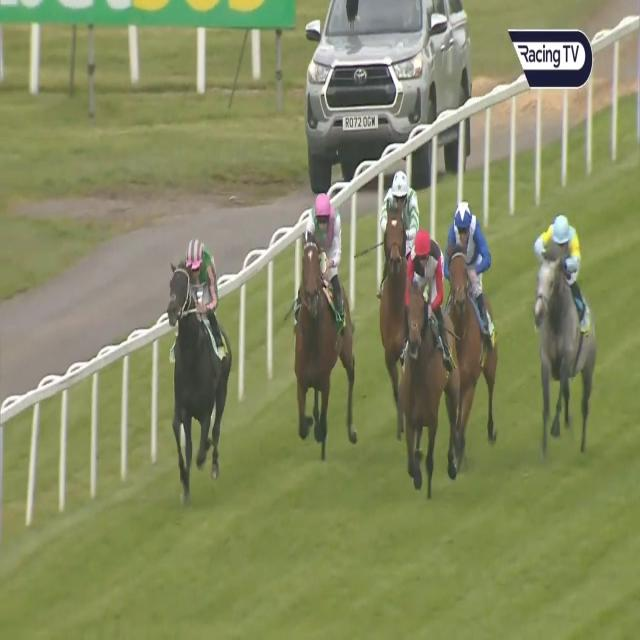horses-racing: (288, 195, 360, 443), (532, 202, 600, 448), (168, 232, 234, 481), (444, 200, 501, 479), (400, 232, 456, 483), (377, 175, 419, 368)
